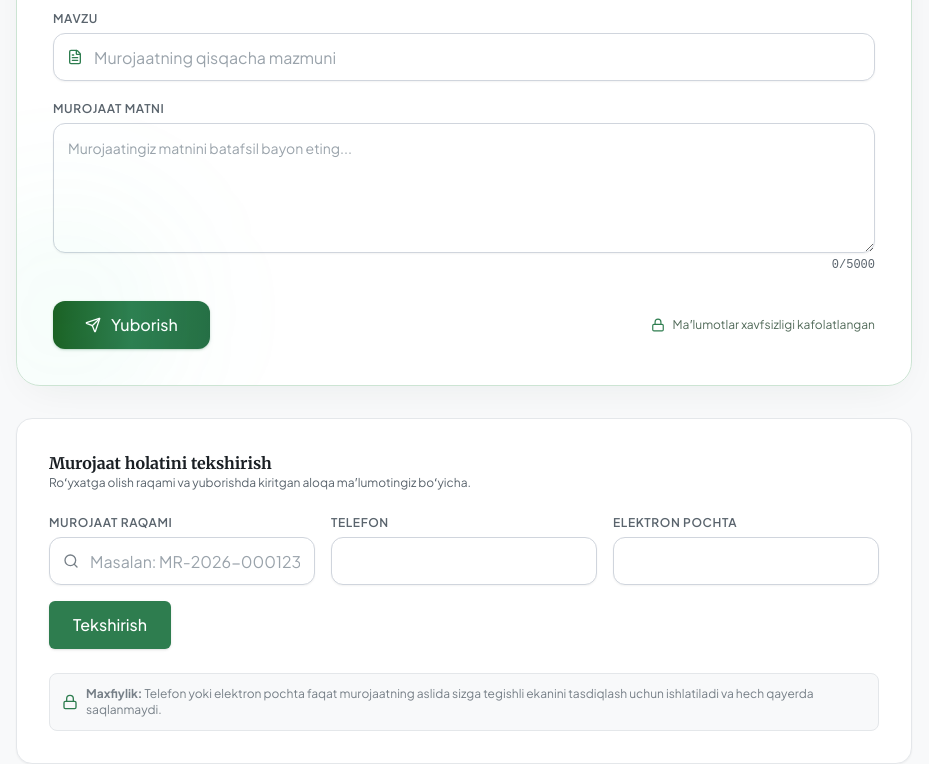
Test case: AppealCheckPage › renders the miss alert, not a crash, on a found: false response
(page scrolled)
Type "MR-2026-000123" into the field with placeholder "Masalan: MR-2026-000123" at (182, 561), box [49,537,315,585]
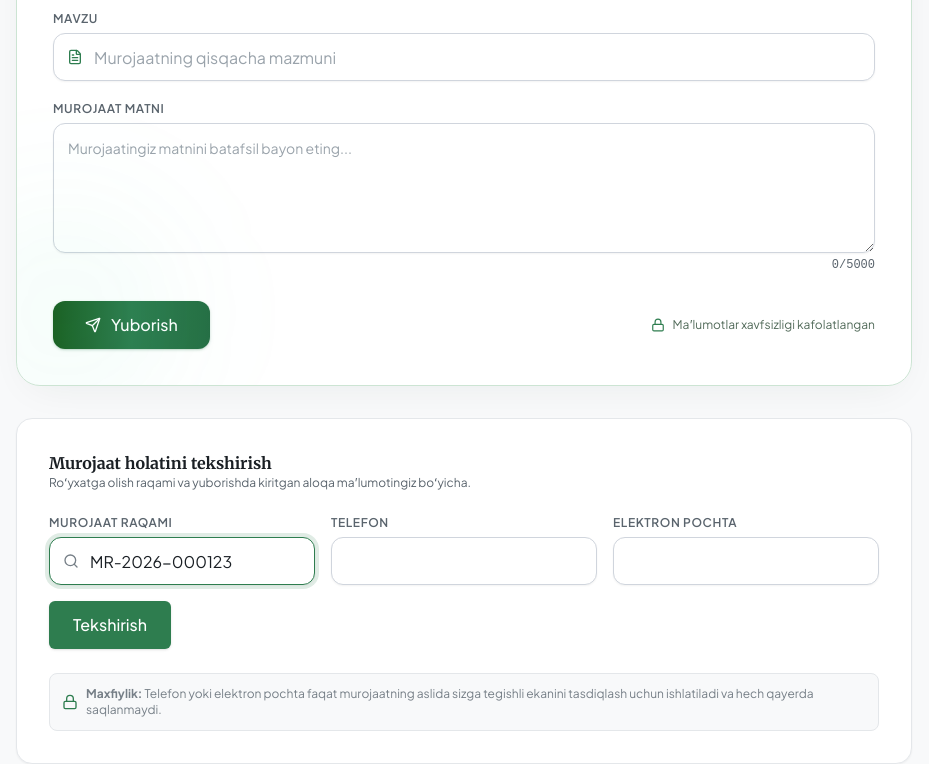
Type "+998901234567" into the field with id "appeal-phone" at (464, 561), box [331,537,597,585]
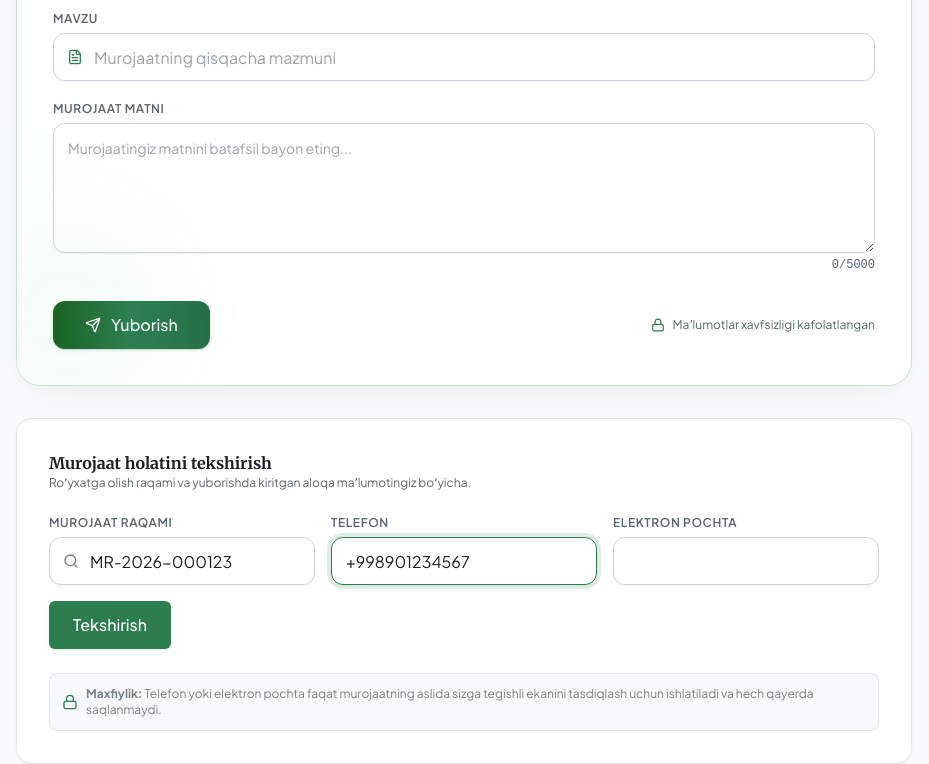
Click the button named "Tekshirish" below "Murojaat raqami" at (110, 625), box [49,601,171,649]
(page scrolled)
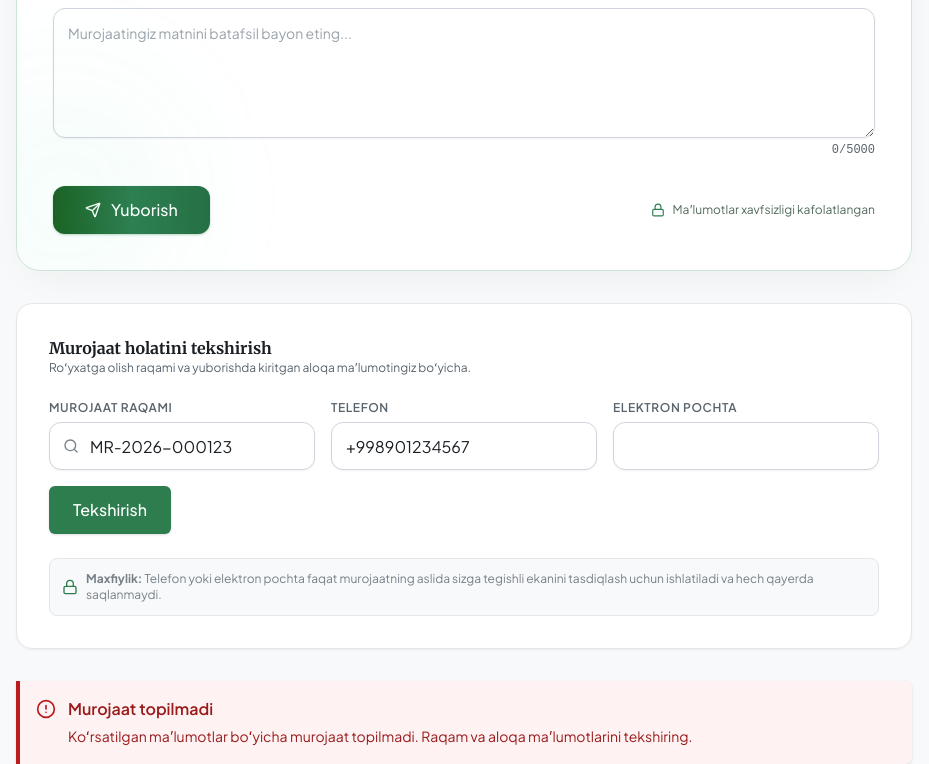
Now the heading "Murojaat topilmadi" is shown, box [68,698,213,719]
